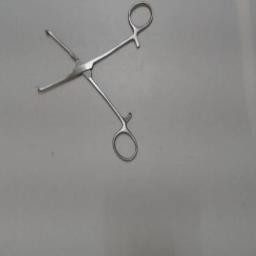Allis Tissue Forceps: (34, 0, 156, 164)
